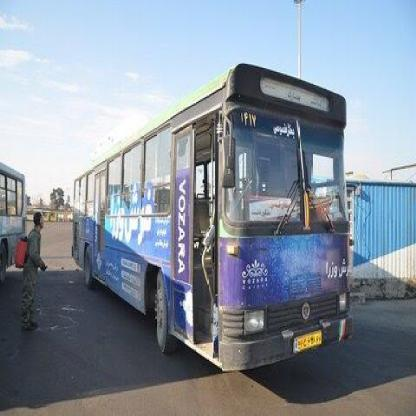Bus: (63, 55, 354, 379), (2, 153, 36, 297)
